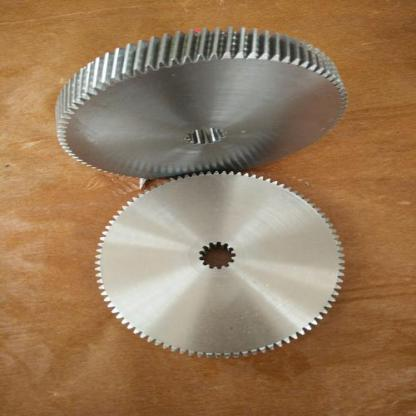FOD: (89, 168, 349, 361), (48, 25, 347, 181)
